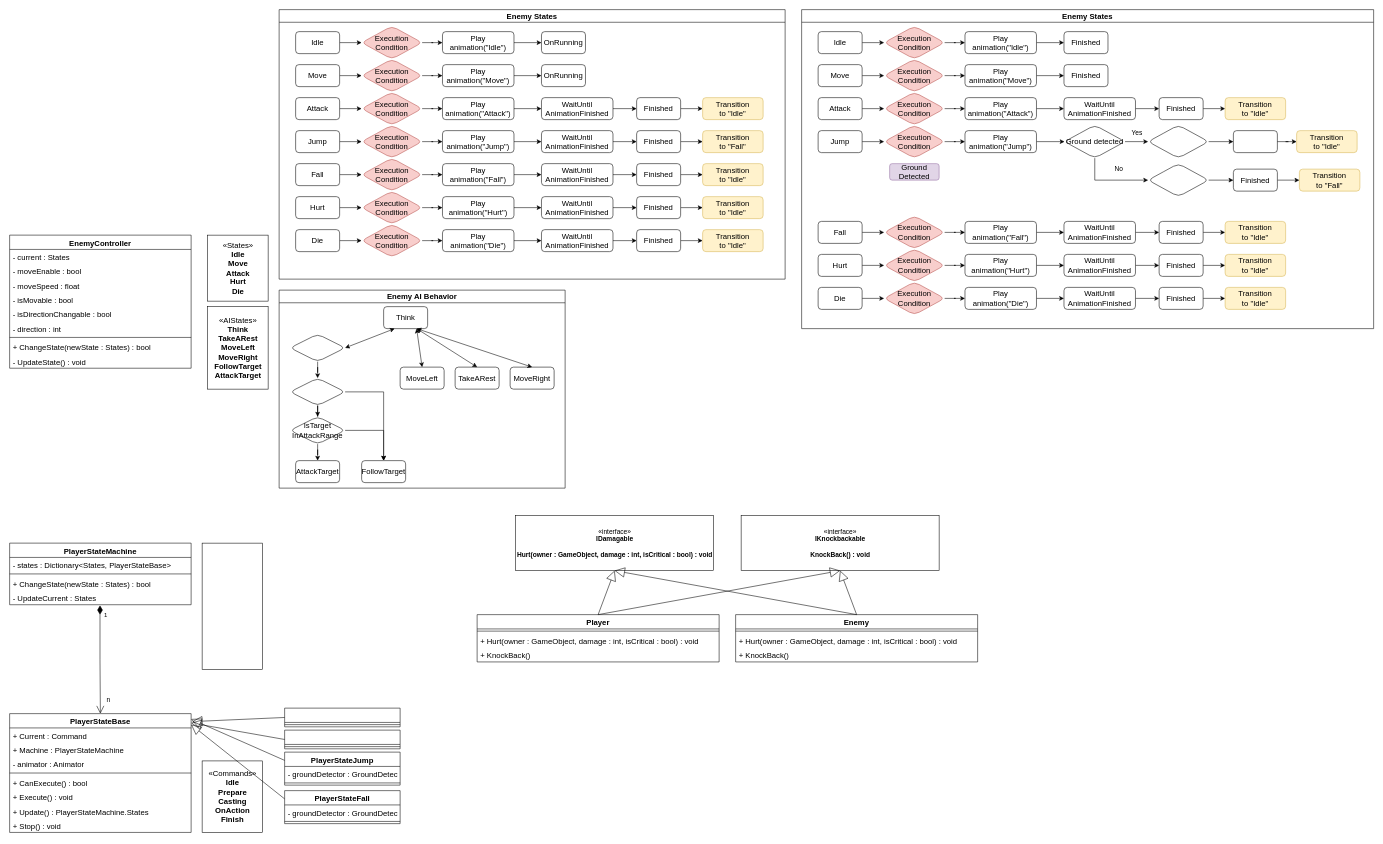
Some shapes in this 1383 by 844 pixel diagram are drawn without their labels. The centre of each missing label's shape, as x and y in pixels:
"Animation Finished" goes at pixel 1178 141.
"Error" goes at pixel 1255 141.
"IsAttackable" goes at pixel 317 392.
"IsTarget Detected" goes at pixel 317 348.
"PlayerStateIdle" goes at pixel 342 717.
"PlayerStateMove" goes at pixel 342 739.
"Y velocity < 0 ?" goes at pixel 1178 180.
"«States» Idle Move Jump Fall Slide EdgeGrab Ladder Attack Hurt Die" goes at pixel 232 606.
